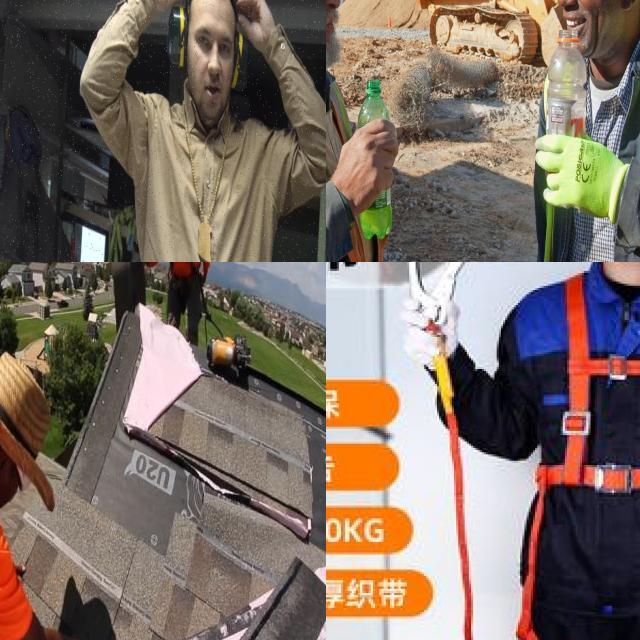Ear-protection: (164, 0, 194, 79)
Harness: (522, 271, 640, 640)
No_Glasses: (194, 22, 234, 64)
face_nomask: (552, 0, 619, 66)
hand_glove: (542, 120, 620, 233)
hand_noglove: (331, 115, 400, 220)
person: (539, 0, 640, 262), (326, 0, 390, 262)
vest: (532, 37, 640, 262), (326, 41, 391, 262)
